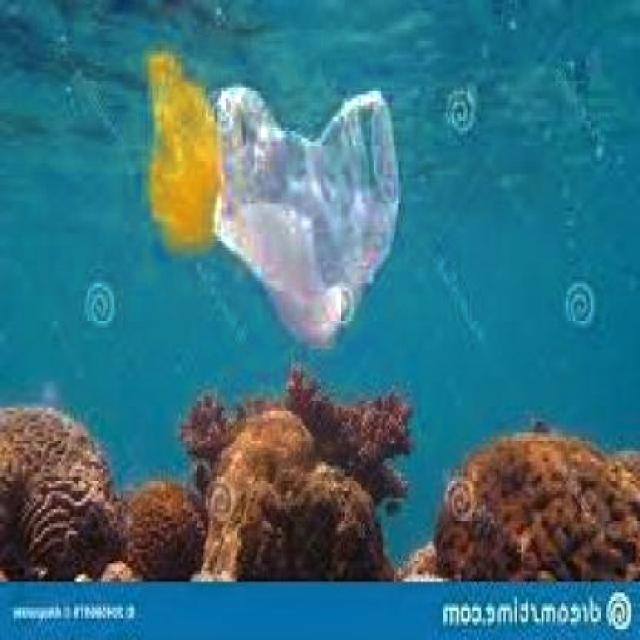pbag: (210, 79, 401, 353), (145, 51, 218, 258)
